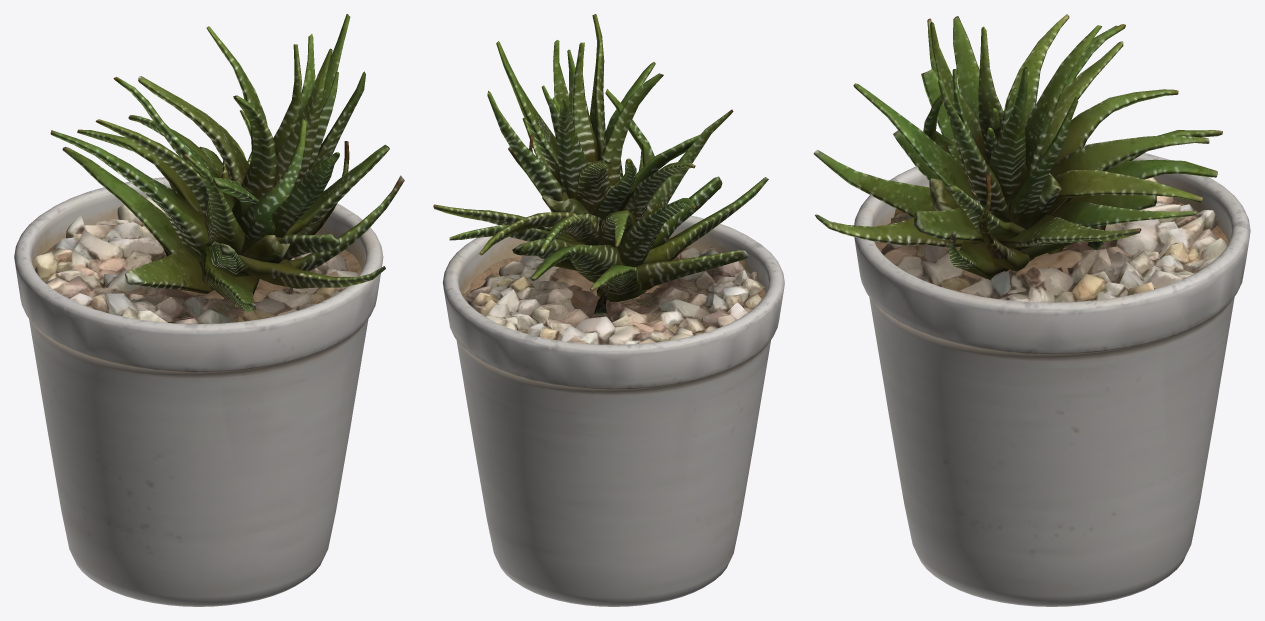
File: potted_plant_04.glb
3 views of the same model, side by side, from view 1: azimuth 30°, elevation 25°; view 2: azimuth 150°, elevation 25°; view 3: azimuth 270°, elevation 25° (orthographic). The views are drawn at different scales.
Visible parts, largest first — view 1: potted_plant_04_ground; view 2: potted_plant_04_ground; view 3: potted_plant_04_ground.
Part boxes in pixels (box(x1,y1,x2,y2)): potted_plant_04_ground: box(14, 14, 404, 606); potted_plant_04_ground: box(433, 14, 784, 606); potted_plant_04_ground: box(813, 14, 1250, 606).
Bounding box in the file's own units: 0.1679 × 0.2675 × 0.1848.
Materials: 1 (1 with a texture image).
